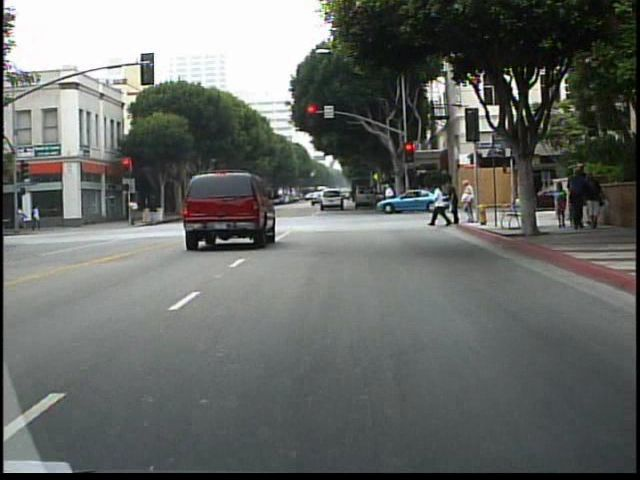person: (548, 179, 569, 233), (520, 168, 538, 228), (428, 182, 450, 229), (460, 179, 478, 228), (209, 182, 227, 227), (447, 181, 464, 226), (382, 179, 400, 217), (12, 200, 29, 235), (29, 200, 45, 235), (128, 196, 144, 226), (405, 182, 418, 216)
